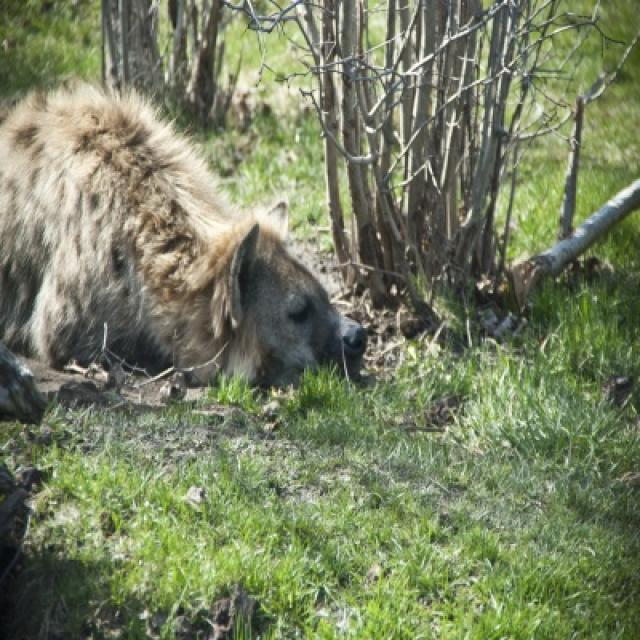hyena: (0, 78, 371, 422)
